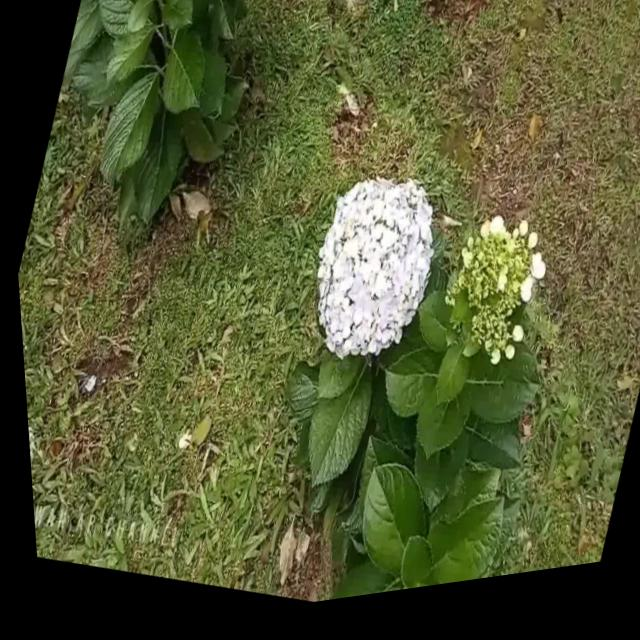Flower: (277, 154, 464, 401)
